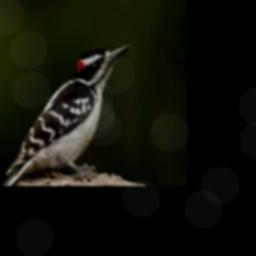Woodpecker: (3, 43, 130, 186)
